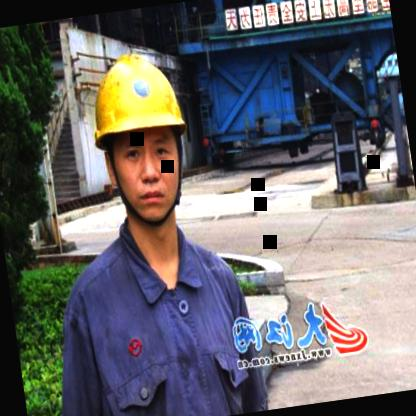helmet: (66, 36, 214, 242)
